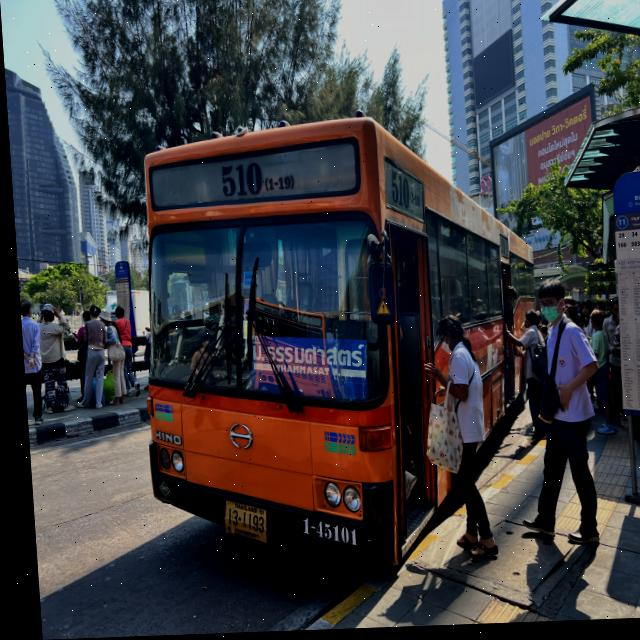BMTA-bus: (125, 115, 544, 578)
Bus-Line-Number: (214, 155, 298, 203)
Destination-Sign-Normal: (247, 331, 365, 408)
